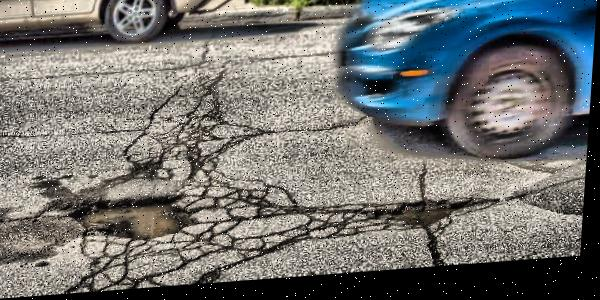pothole: (71, 185, 203, 246), (368, 202, 469, 239)
